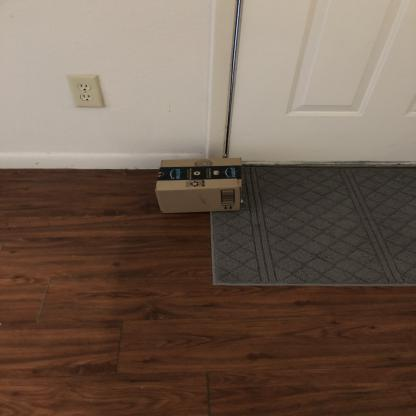package: (149, 154, 252, 217)
